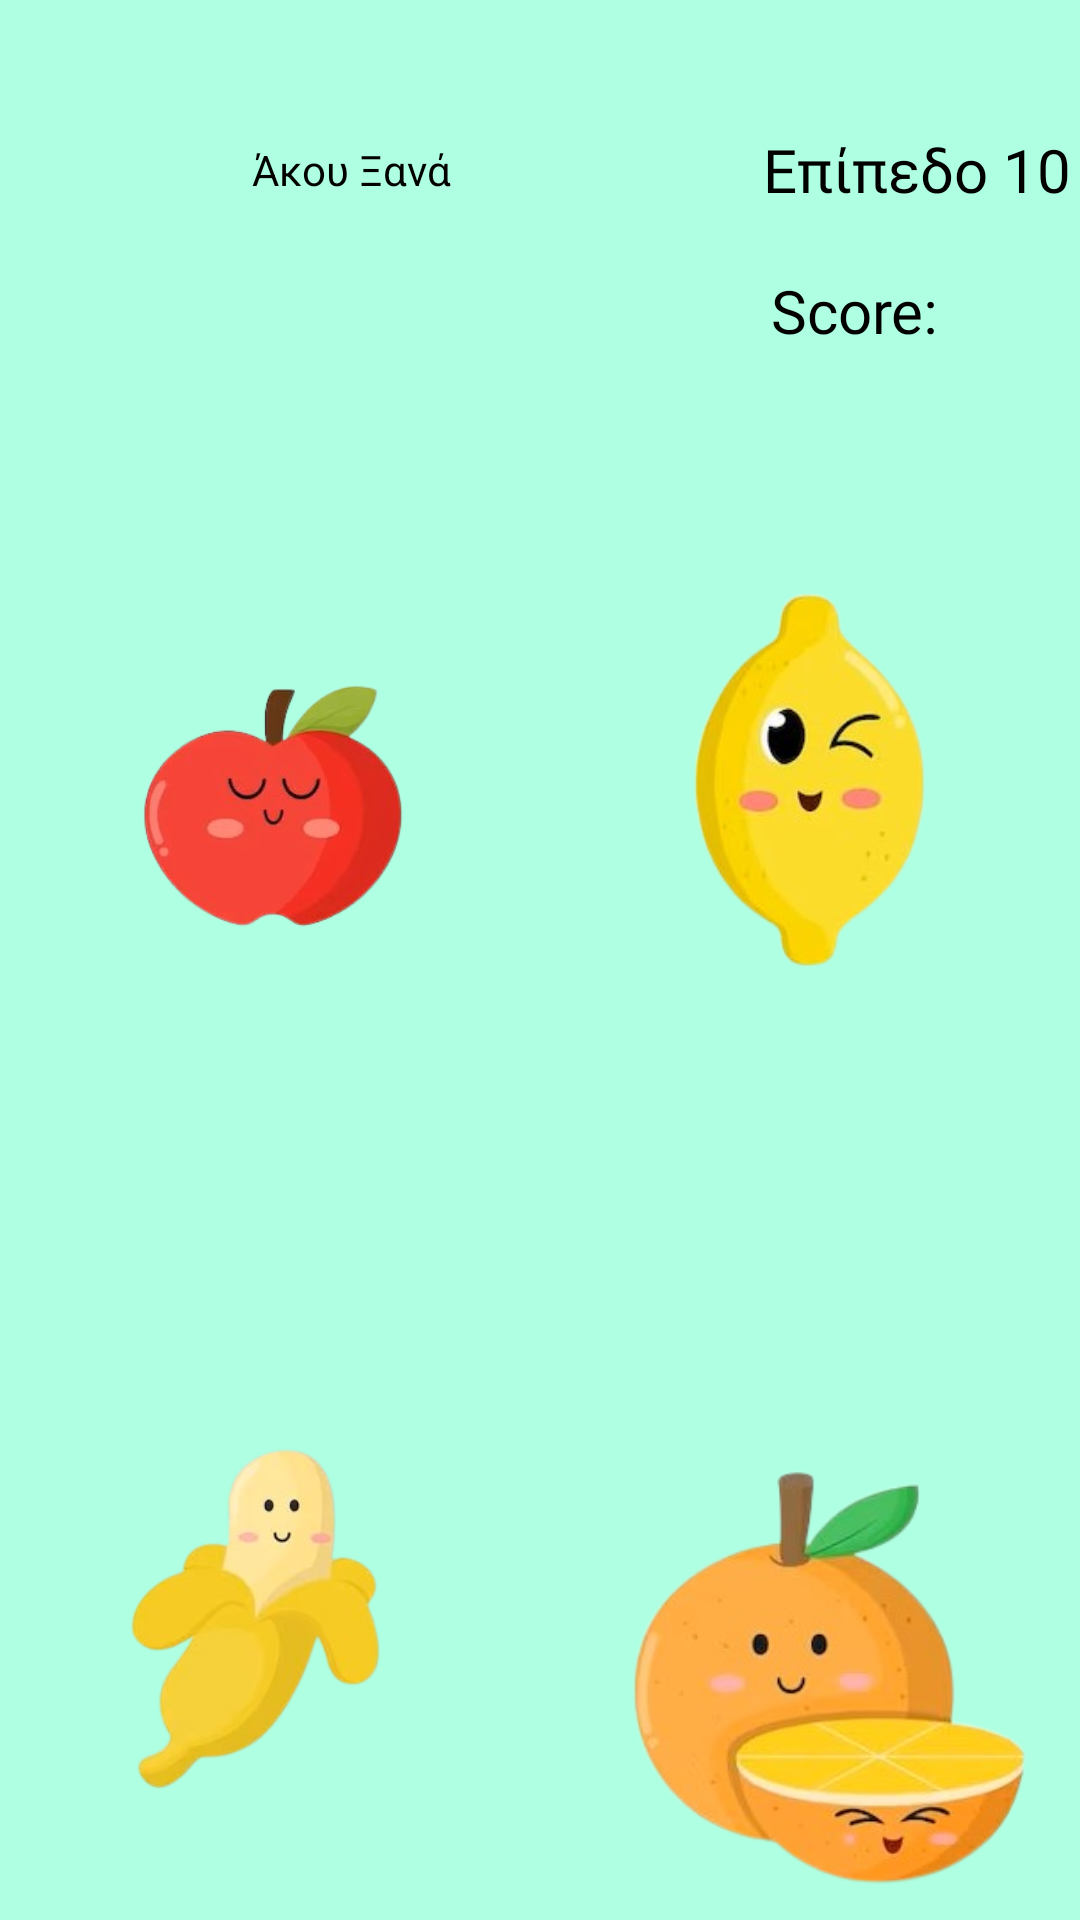

Icons on this 1080 × 1920 Android screen, each with its box as (x1, y1, x2, y2):
apple: (144, 686, 402, 926)
banana: (131, 1450, 379, 1788)
